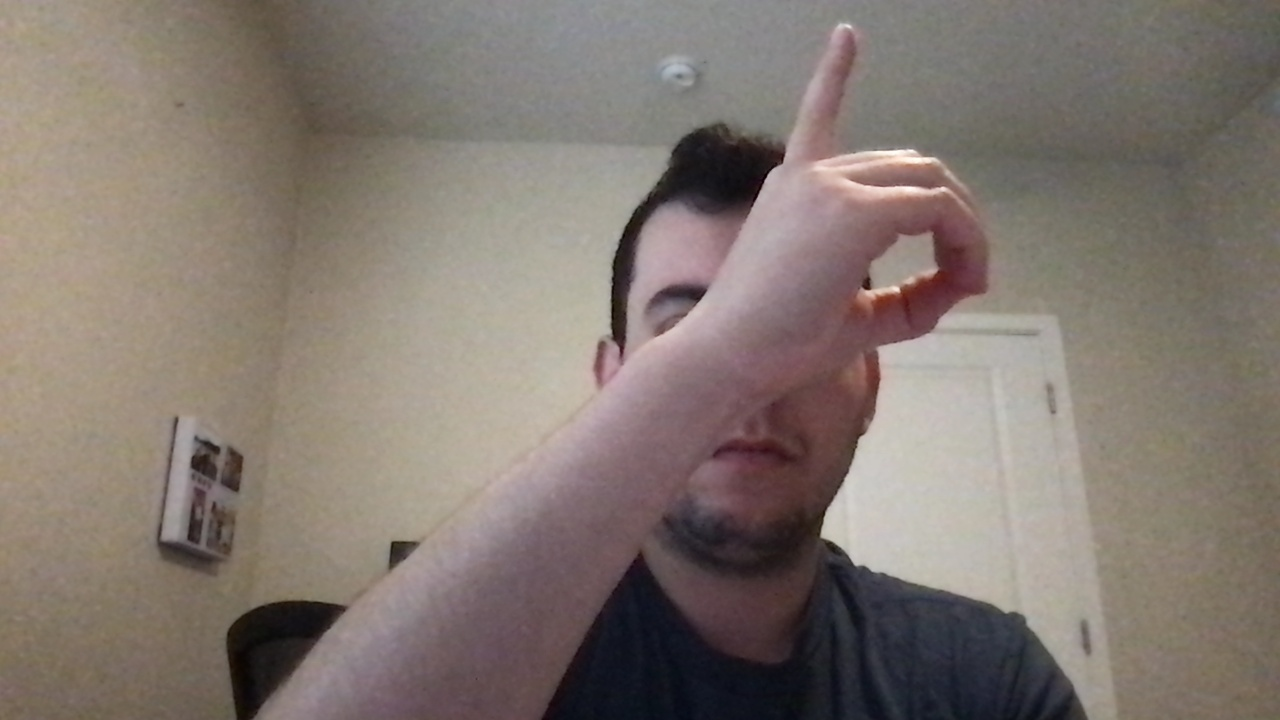d: (735, 11, 1010, 375)
